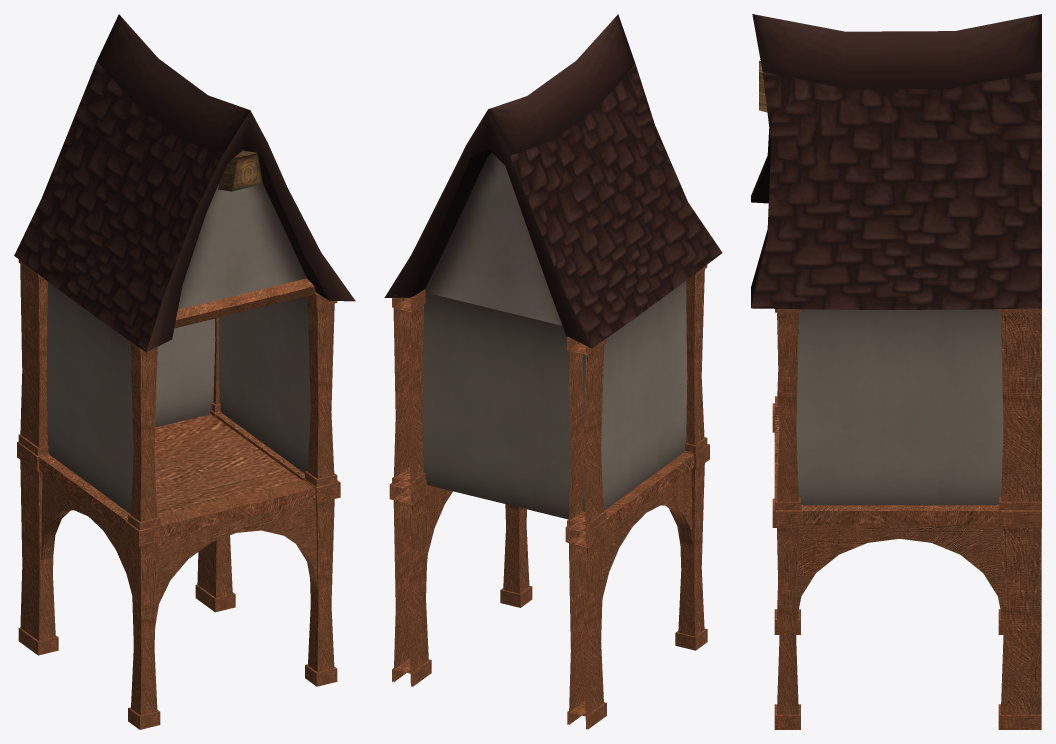
The model's file is fanasty_mod_winch_hanger_extension.fbx.
3 views of the same model, side by side, from view 1: azimuth 30°, elevation 25°; view 2: azimuth 150°, elevation 25°; view 3: azimuth 270°, elevation 25° (orthographic). The views are drawn at different scales.
Parts seen in each view (by area): view 1: winch_hanger_extension; view 2: winch_hanger_extension; view 3: winch_hanger_extension.
Part boxes in pixels (x1=…): winch_hanger_extension: x1=14, y1=14, x2=355, y2=729; winch_hanger_extension: x1=384, y1=14, x2=722, y2=729; winch_hanger_extension: x1=751, y1=14, x2=1041, y2=729.
Bounding box in the file's own units: 3.85 × 10.56 × 4.2.
